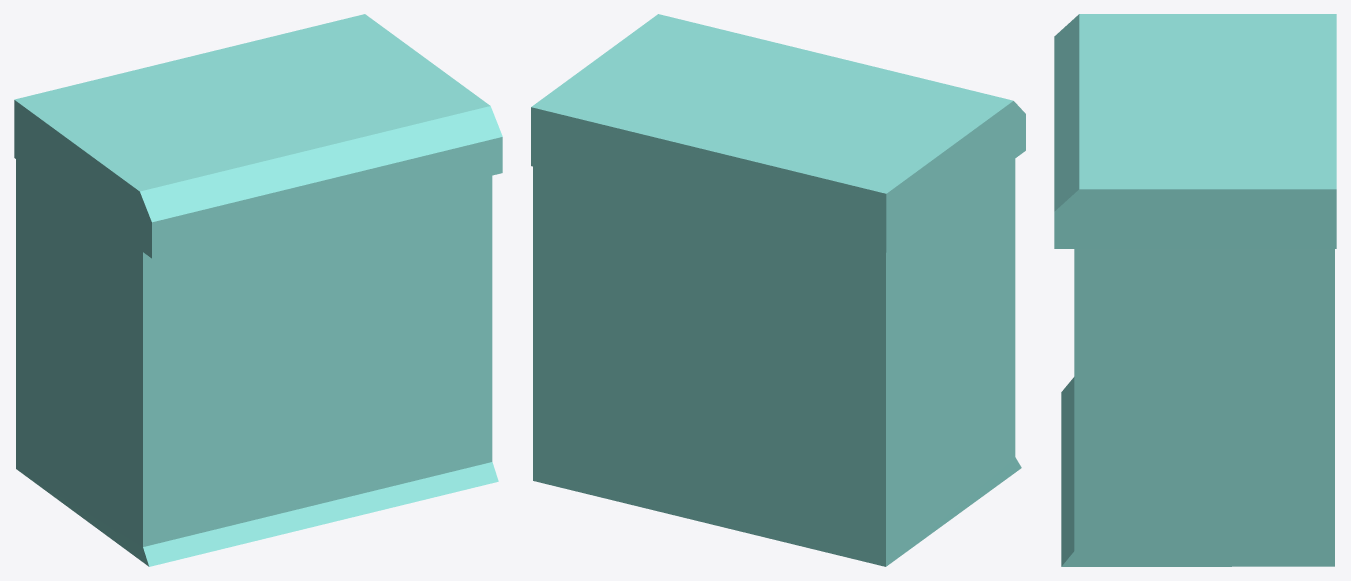
Rendered from DinerGas_Collision.fbx.
The picture shows the model from 3 angles, left to right: view 1: azimuth 30°, elevation 25°; view 2: azimuth 150°, elevation 25°; view 3: azimuth 270°, elevation 25°; orthographic projection. The views are drawn at different scales.
Parts seen in each view (by area): view 1: DinerGas_Collision; view 2: DinerGas_Collision; view 3: DinerGas_Collision.
Boxes of the visible parts, left/top/right/bottom form: DinerGas_Collision: left=14, top=14, right=502, bottom=566; DinerGas_Collision: left=531, top=14, right=1025, bottom=566; DinerGas_Collision: left=1054, top=14, right=1336, bottom=566.
Bounding box in the file's own units: 1.16 × 1.16 × 0.7876.
